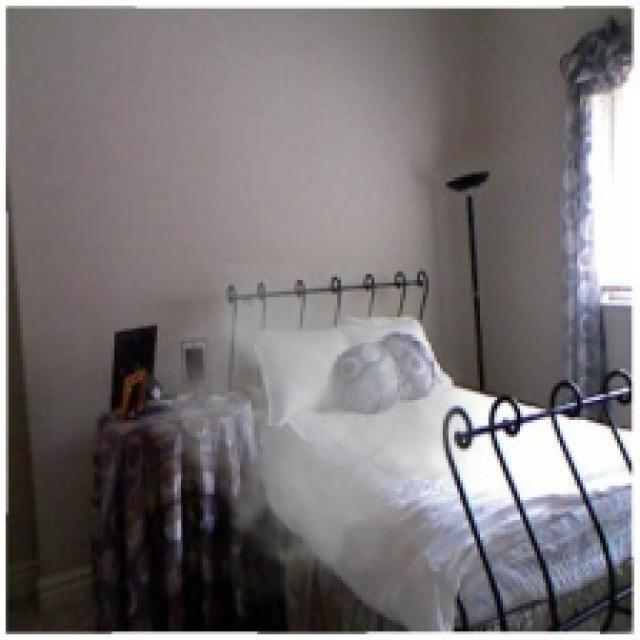Smoke: (137, 262, 492, 608)
